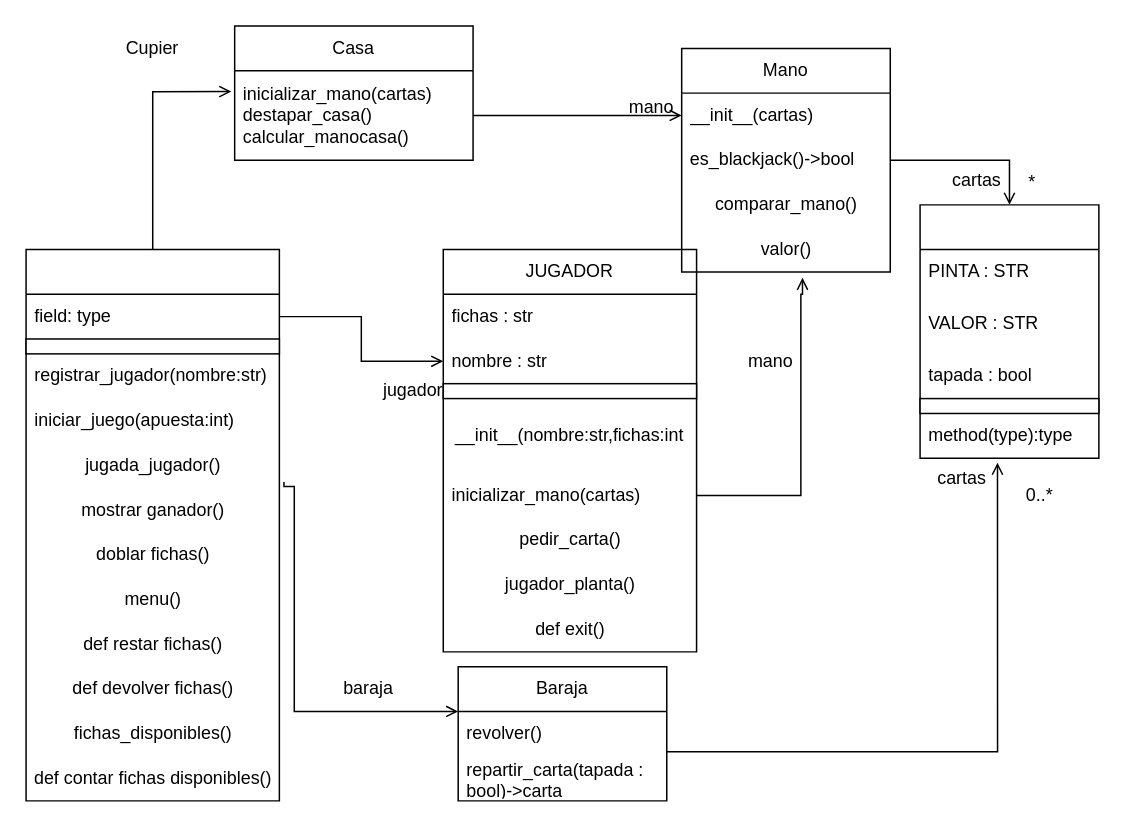
This 1125x827 diagram has some shape labels left out. Here are the shapes that lost their labels. From the top down, the box of each, then its label:
(919, 203, 1099, 458): CARTA
(25, 248, 279, 801): blackjack
